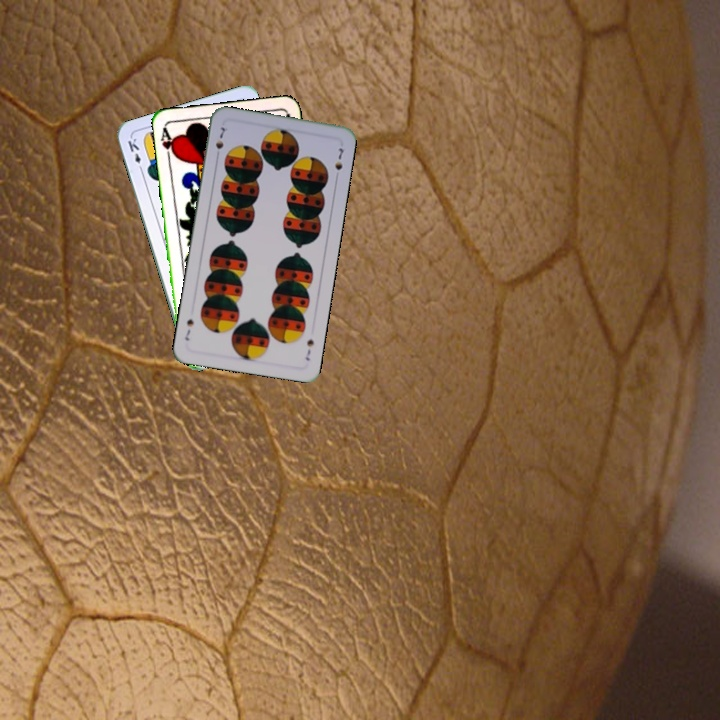EK: (124, 134, 146, 175)
HA: (157, 124, 179, 164)
S7: (211, 123, 228, 161), (301, 335, 316, 363)
